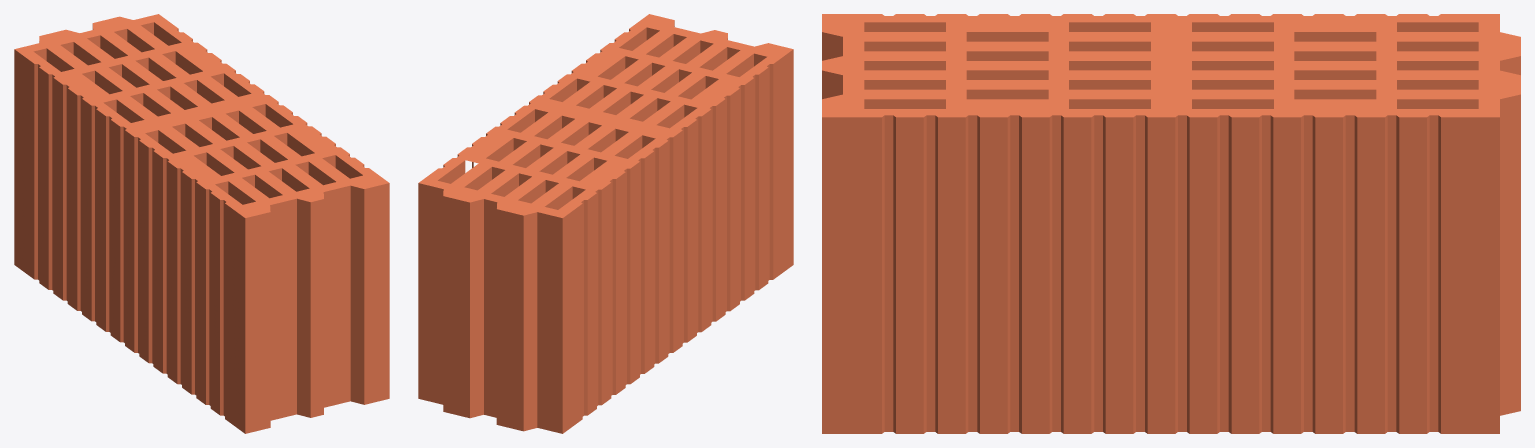
3 views of the same model, side by side, from view 1: azimuth 30°, elevation 25°; view 2: azimuth 150°, elevation 25°; view 3: azimuth 270°, elevation 25° (orthographic). The views are drawn at different scales.
Parts seen in each view (by area): view 1: Tragender Innenziegel; view 2: Tragender Innenziegel; view 3: Tragender Innenziegel.
Boxes of the visible parts, x1,y1,x2,y2 form: Tragender Innenziegel: (14, 14, 389, 433); Tragender Innenziegel: (418, 14, 793, 433); Tragender Innenziegel: (822, 14, 1520, 433).
Size of the model in its own units: 0.175 by 0.25 by 0.5.
